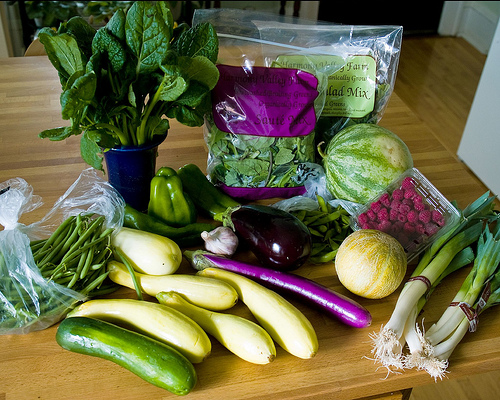cucumber: (56, 316, 195, 397)
